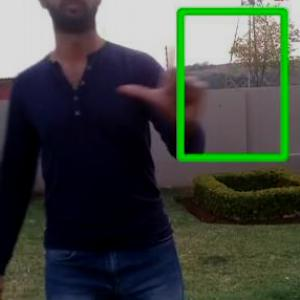land_hand: (116, 24, 209, 123)
